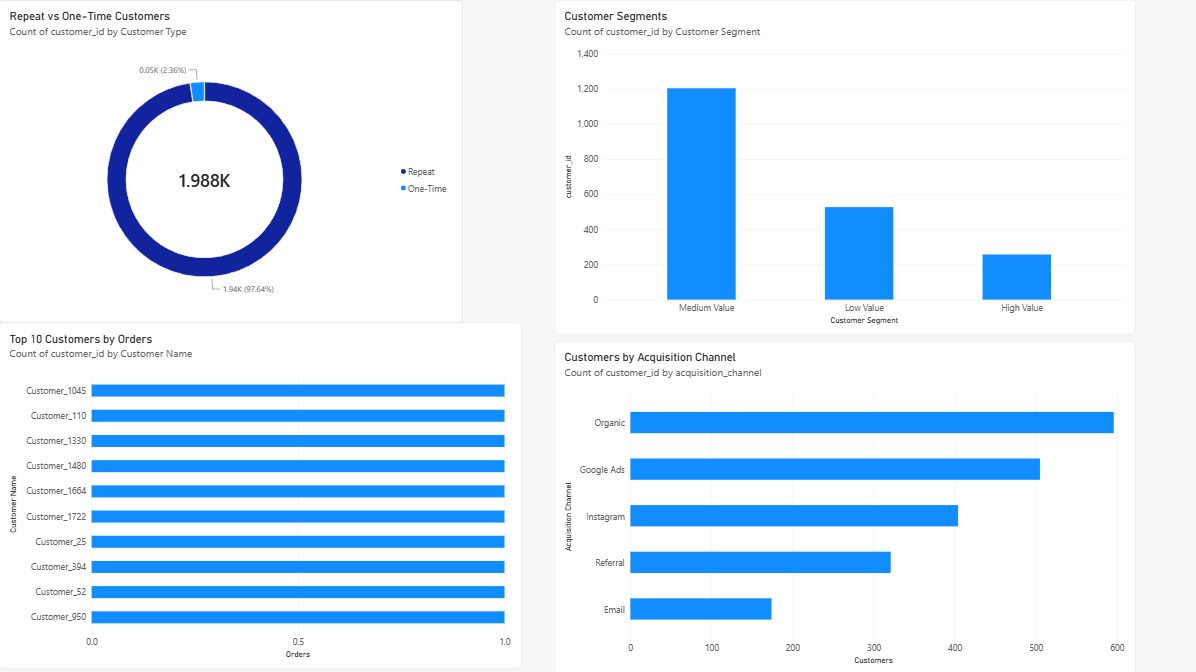

What the dashboard file says about the page in this screenshot:
{"tool":"powerbi","page":{"name":"Customers","canvas":[1920,1080],"ordinal":3},"visuals":[{"type":"donutChart","title":"Repeat vs One-Time Customers","fields":{"Category":["Customer Orders.Customer Type"],"Y":["CountNonNull(Customer Orders.customer_id)"]},"box":[0,0,742,516],"z":0},{"type":"clusteredColumnChart","title":"Customer Segments","fields":{"Category":["Customer Orders.Customer Segment"],"Y":["CountNonNull(Customer Orders.customer_id)"]},"box":[888,0,930,536],"z":1},{"type":"clusteredBarChart","title":"Top 10 Customers by Orders","fields":{"Category":["Top 10 Customers.Customer Name"],"Y":["CountNonNull(Top 10 Customers.customer_id)"]},"box":[0,516,836,554],"z":2},{"type":"clusteredBarChart","title":"Customers by Acquisition Channel","fields":{"Category":["customers.acquisition_channel"],"Y":["Count(customers.customer_id)"]},"box":[888,546,930,534],"z":3}]}

Visuals, with their boxes in screenshot pixels (x1, y1, x2, y2), scaled from the page's 1920x1080 canvas onto the 1196x672 screenshot:
"Repeat vs One-Time Customers" donutChart: 0:0:462:321
"Customer Segments" clusteredColumnChart: 553:0:1132:334
"Top 10 Customers by Orders" clusteredBarChart: 0:321:521:666
"Customers by Acquisition Channel" clusteredBarChart: 553:340:1132:671
